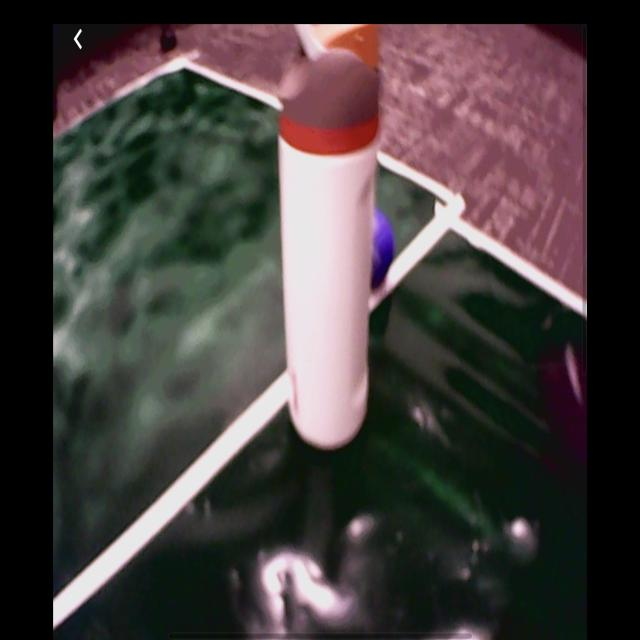ball: (372, 208, 395, 291)
